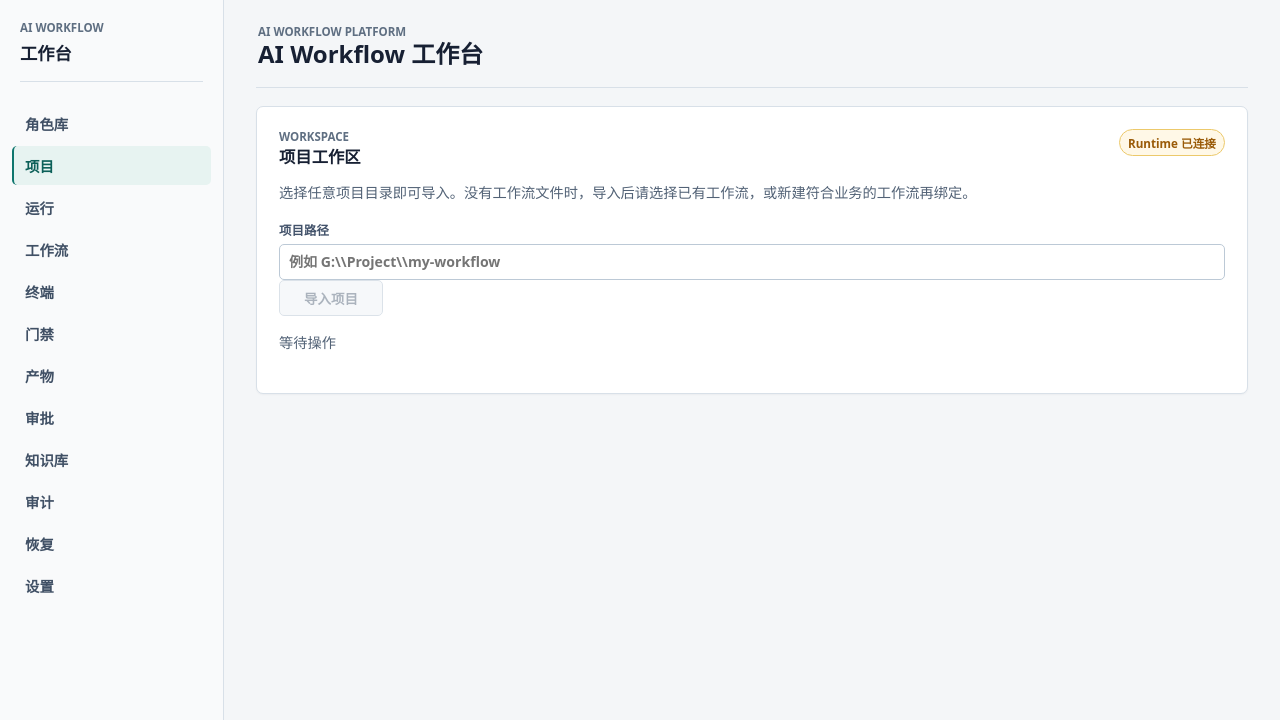
it: App › connects the project workspace when the managed desktop Runtime becomes ready
The image size is (1280, 720).
Expected: the text "Runtime 已连接" is shown, [1119,129,1225,156]
In the field labelled "项目路径": (752, 262) [279,244,1225,280], type "G:\\Project\\demo"
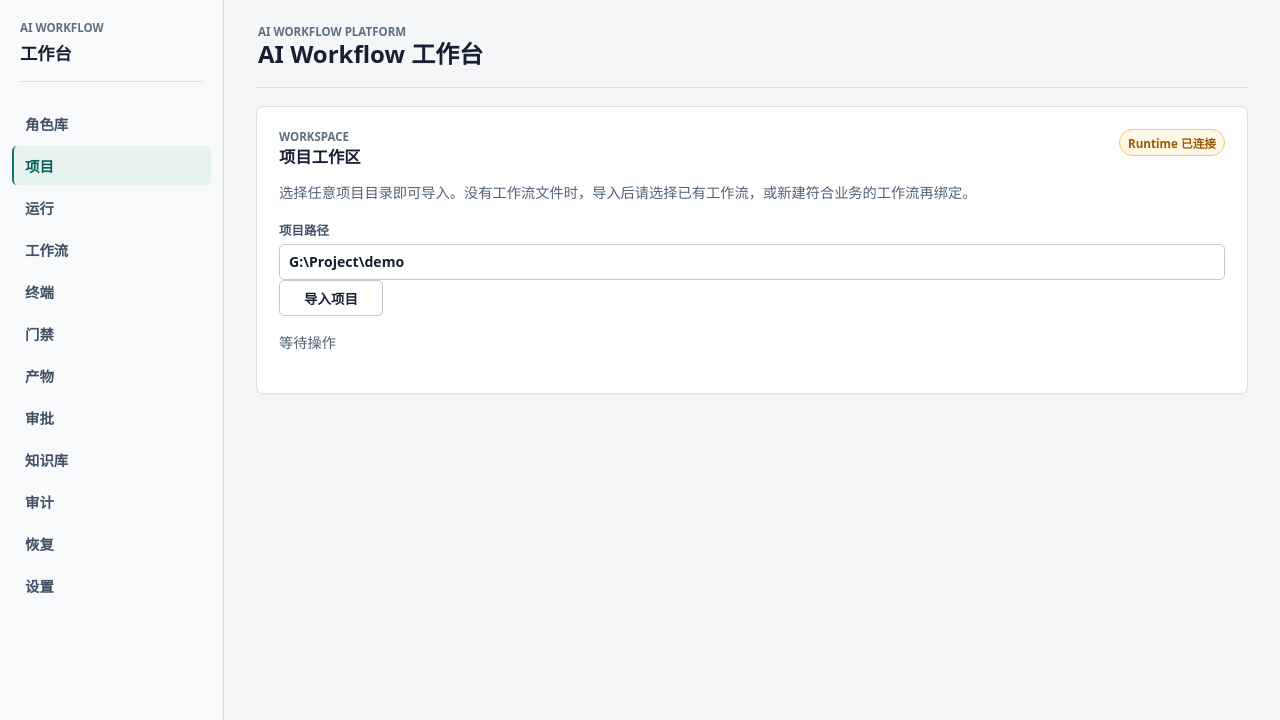
Expected: the button "导入项目" is enabled, [279,280,383,316]
